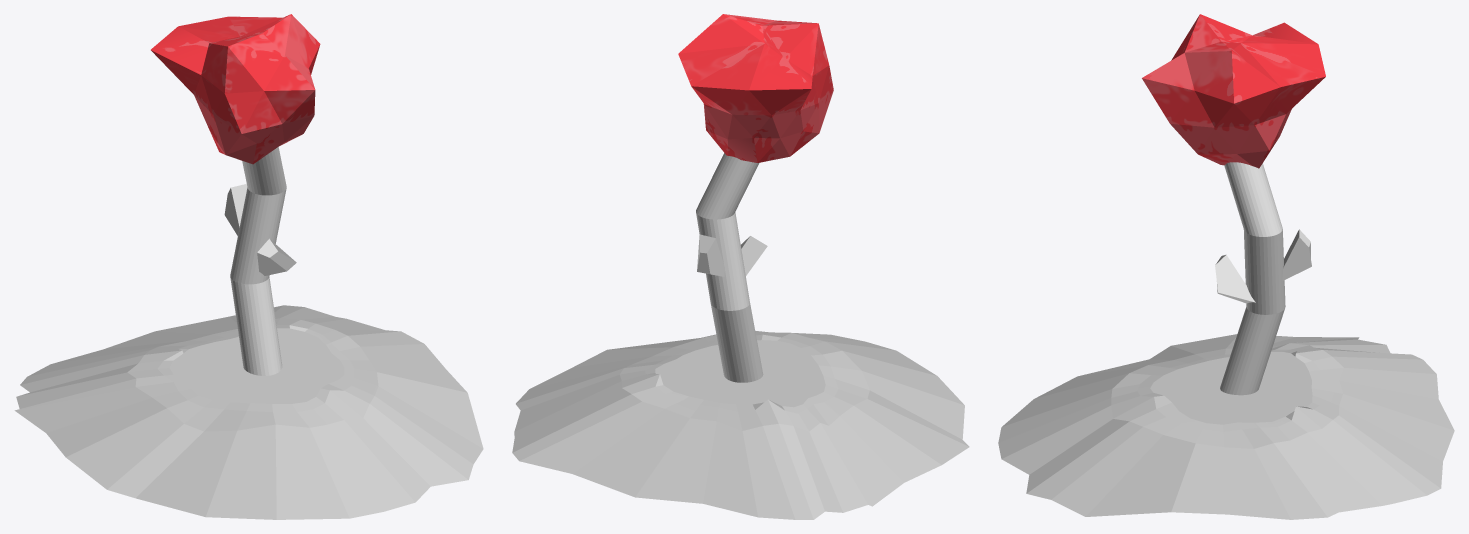
The model's file is newPlant.fbx.
3 renders of one model, left to right at view 1: azimuth 30°, elevation 25°; view 2: azimuth 150°, elevation 25°; view 3: azimuth 270°, elevation 25°, orthographic.
Visible parts, largest first — view 1: Dirt, Rose, StemA, StemC, StemB; view 2: Dirt, Rose, StemA, StemB, StemC; view 3: Dirt, Rose, StemA, StemC, StemB.
Boxes of the visible parts, x1=… form: Dirt: x1=14, y1=305, x2=483, y2=519; Rose: x1=151, y1=14, x2=320, y2=164; StemA: x1=230, y1=147, x2=286, y2=375; StemC: x1=257, y1=238, x2=296, y2=275; StemB: x1=224, y1=184, x2=247, y2=235; Dirt: x1=512, y1=331, x2=969, y2=519; Rose: x1=678, y1=14, x2=833, y2=162; StemA: x1=696, y1=153, x2=763, y2=382; StemB: x1=697, y1=234, x2=724, y2=276; StemC: x1=741, y1=236, x2=767, y2=275; Dirt: x1=998, y1=334, x2=1454, y2=519; Rose: x1=1142, y1=14, x2=1325, y2=168; StemA: x1=1220, y1=162, x2=1285, y2=395; StemC: x1=1215, y1=254, x2=1255, y2=303; StemB: x1=1282, y1=229, x2=1311, y2=280.
Bounding box in the file's own units: 226 × 231 × 234.
